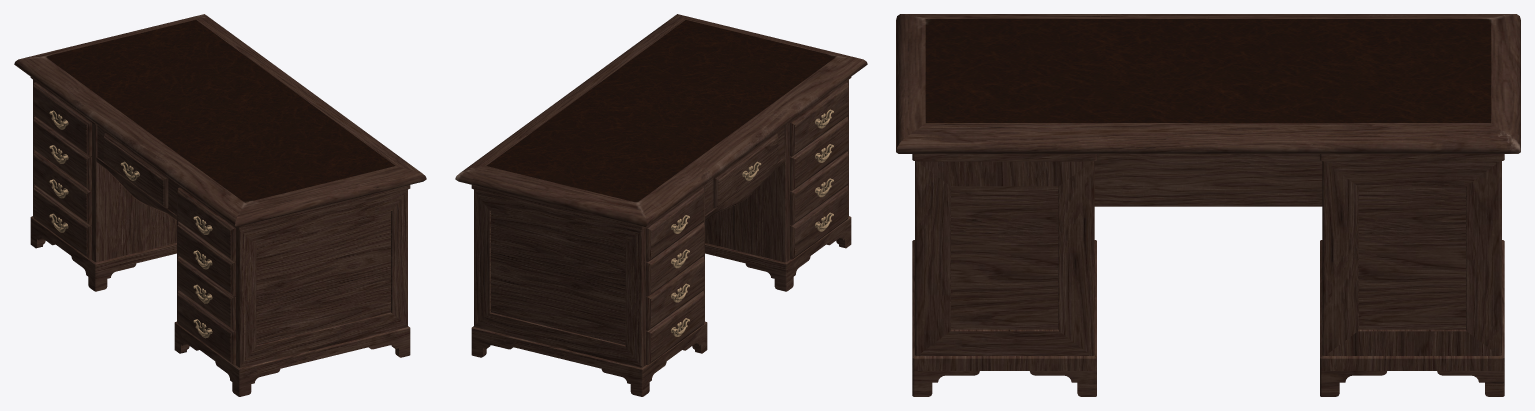
3 renders of one model, left to right at view 1: azimuth 30°, elevation 25°; view 2: azimuth 150°, elevation 25°; view 3: azimuth 270°, elevation 25°, orthographic. The views are drawn at different scales.
Visible parts, largest first — view 1: Table_top, Right_drawer_body1, Left_drawer_body2, Drawer13, drawer, Drawer1, Drawer9, Drawer12, Drawer14, Drawer10, Drawer15, Drawer11 (+4 smaller); view 2: Table_top, Left_drawer_body2, Right_drawer_body1, Drawer1, Drawer13, drawer, Drawer12, Drawer11, Drawer14, Drawer15, Drawer9, Drawer10 (+4 smaller); view 3: Table_top, Right_drawer_body1, Left_drawer_body2, section, leg3, leg2, leg1, leg4.
Boxes of the visible parts, x1,y1,x2,y2 form: Table_top: (14,14,426,226); Right_drawer_body1: (174,182,410,378); Left_drawer_body2: (30,77,176,273); Drawer13: (33,82,91,156); drawer: (103,132,168,208); Drawer1: (177,187,235,261); Drawer9: (177,222,235,296); Drawer12: (33,151,91,225); Drawer14: (33,185,91,259); Drawer10: (177,256,235,330); Drawer15: (33,117,91,190); Drawer11: (177,291,235,364); Table_top: (455,14,867,226); Left_drawer_body2: (471,182,707,378); Right_drawer_body1: (705,77,851,273); Drawer1: (790,82,848,156); Drawer13: (646,187,704,261); drawer: (713,132,778,208); Drawer12: (646,256,704,330); Drawer11: (790,185,848,259); Drawer14: (646,291,704,364); Drawer15: (646,222,704,296); Drawer9: (790,117,848,190); Drawer10: (790,151,848,225); Table_top: (896,14,1520,153); Right_drawer_body1: (912,154,1096,370); Left_drawer_body2: (1320,154,1504,370); section: (1094,154,1322,206); leg3: (912,370,979,396); leg2: (1437,370,1504,396); leg1: (1320,370,1386,396); leg4: (1030,370,1096,396).
Bounding box in the file's own units: 1 × 0.9417 × 2.
Materials: 5 (5 with a texture image).
